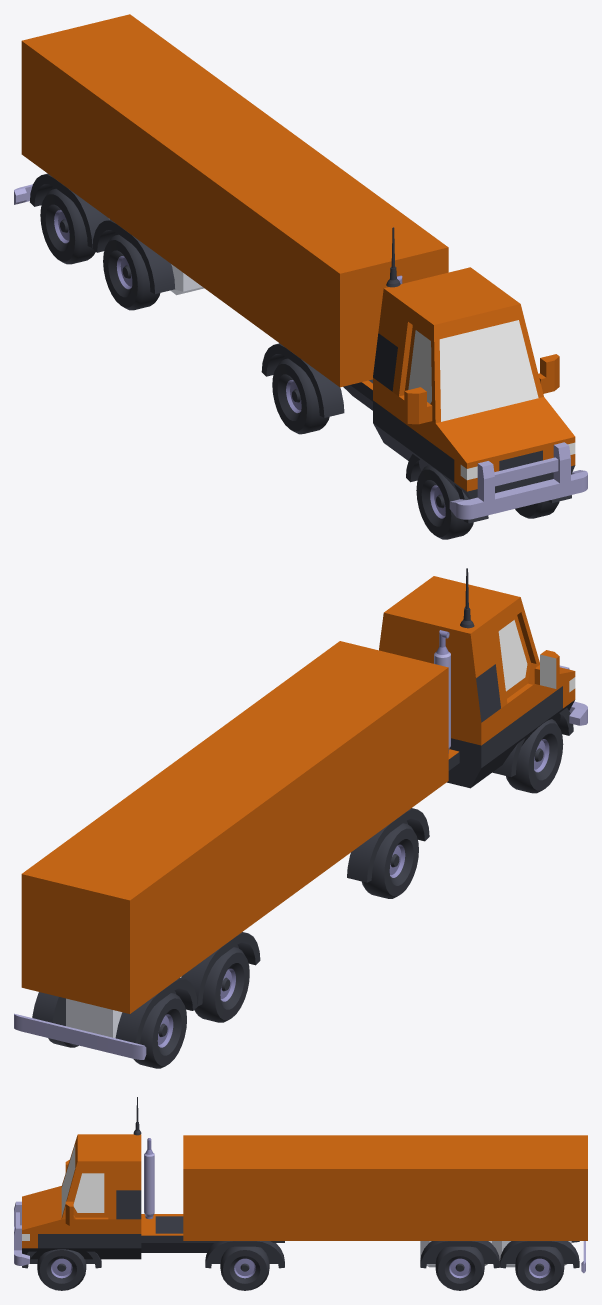
The model's file is Large_orange_Car.fbx.
3 views of the same model, one above another, from view 1: azimuth 30°, elevation 25°; view 2: azimuth 150°, elevation 25°; view 3: azimuth 270°, elevation 25° (orthographic). The views are drawn at different scales.
Parts seen in each view (by area): view 1: block, body_topVan, wheel_small (×4), body_frontTruckShort, wheel_coverWide (×3), bumper_large, body_standard, detail_mirror (×2); view 2: block, body_topVan, wheel_small (×4), wheel_coverWide (×5), body_standard, bumper, block_bevel, body_frontTruckShort, detail_mirror, detail_exhaustVerticalThin; view 3: block, wheel_small (×4), body_topVan, wheel_coverWide (×4), body_standard, body_frontTruckShort, body_backFlat, detail_exhaustVerticalThin, bumper_large.
Part boxes in pixels (x1,y1,x2,y2): block: (21,14,448,387); body_topVan: (373,267,543,423); wheel_small (×4): (40,188,473,539); body_frontTruckShort: (435,397,575,499); wheel_coverWide (×3): (30,173,344,417); bumper_large: (449,442,587,519); body_standard: (373,378,435,470); detail_mirror (×2): (404,354,559,424); block: (21,641,448,1013); body_topVan: (379,576,539,722); wheel_small (×4): (133,719,563,1068); wheel_coverWide (×5): (32,708,573,1044); body_standard: (447,683,543,788); bumper: (14,1013,146,1059); block_bevel: (66,998,122,1038); body_frontTruckShort: (544,667,575,724); detail_mirror: (534,650,559,688); detail_exhaustVerticalThin: (434,630,450,753); block: (183,1135,587,1240); wheel_small (×4): (37,1246,564,1290); body_topVan: (61,1134,141,1219); wheel_coverWide (×4): (22,1241,579,1268); body_standard: (61,1217,141,1259); body_frontTruckShort: (22,1186,61,1259); body_backFlat: (141,1214,284,1252); detail_exhaustVerticalThin: (144,1138,154,1219); bumper_large: (14,1201,29,1265).
Bounding box in the file's own units: 14 × 23.08 × 72.06.
